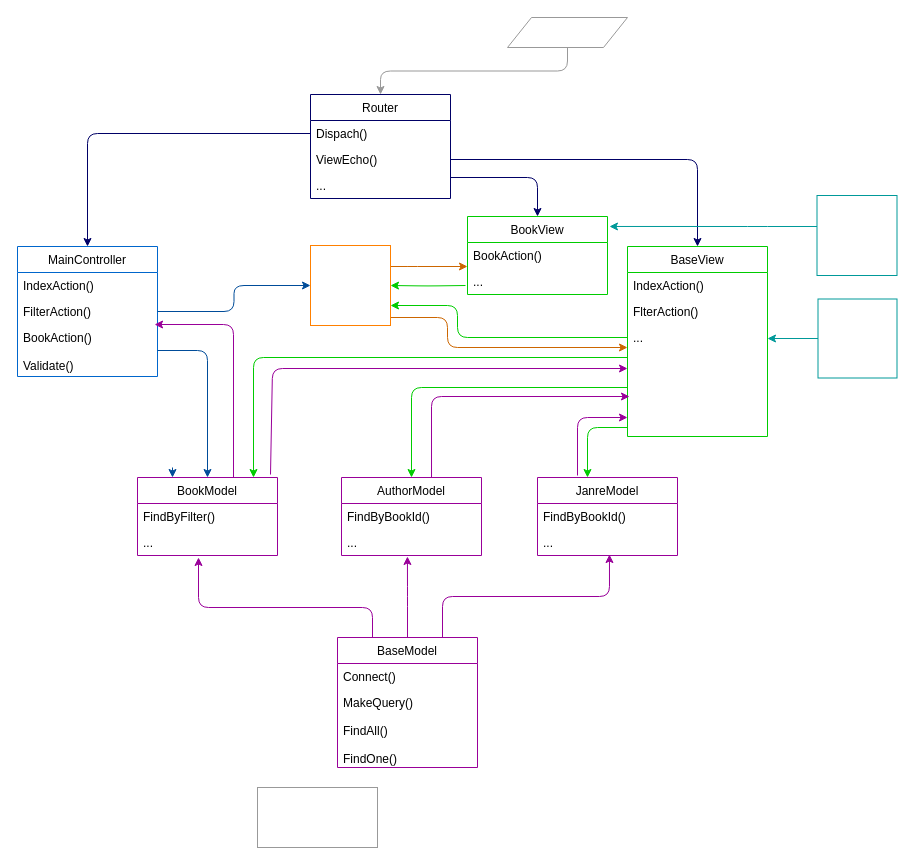
The diagram is 915 pixels wide and 865 high, and some of its shapes have lost their labels. The centre of each missing label's shape, as x and y in pixels:
"BaseTemplate" goes at [857,338].
"BookTemplate" goes at [856,235].
"Query string" goes at [567,32].
"RezultPool" goes at [350,285].
